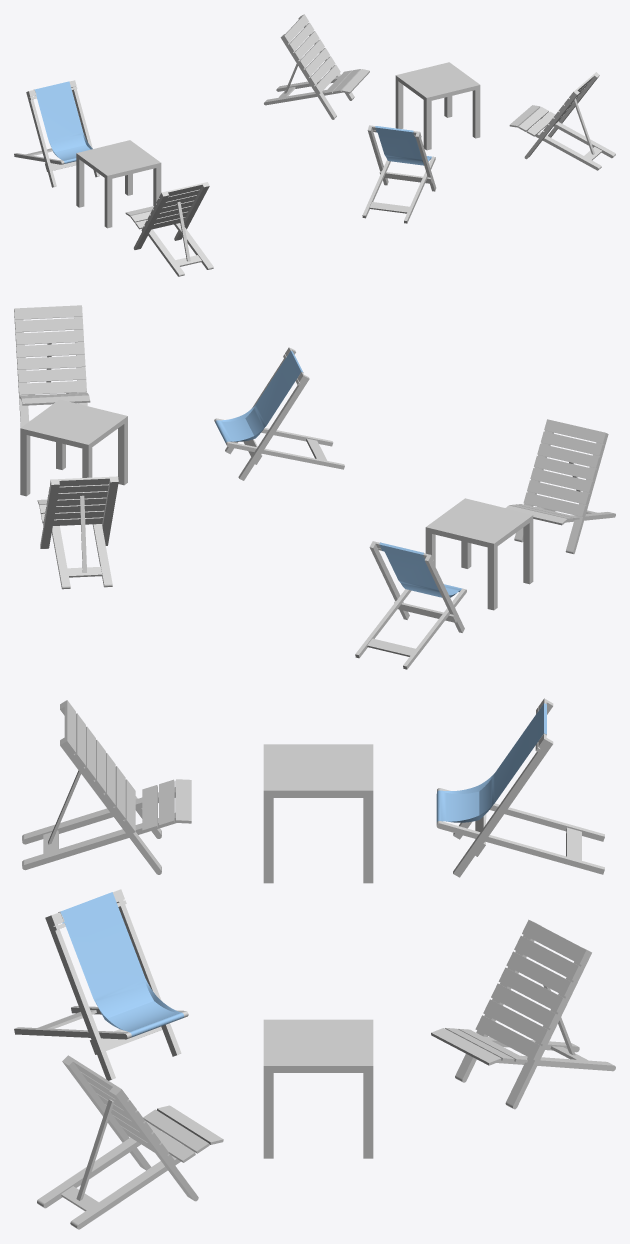
File: 0502_Furnitures.fbx
3 renders of one model, top to bottom at view 1: azimuth 30°, elevation 25°; view 2: azimuth 150°, elevation 25°; view 3: azimuth 270°, elevation 25°, orthographic. The views are drawn at different scales.
Visible parts, largest first — view 1: 07 Furniture; view 2: 07 Furniture; view 3: 07 Furniture.
Part boxes in pixels (x1,y1,x2,y2): 07 Furniture: (14,14,615,276); 07 Furniture: (14,305,615,669); 07 Furniture: (14,698,615,1229).
Size of the model in its own units: 19.79 by 12.75 by 3.28.
